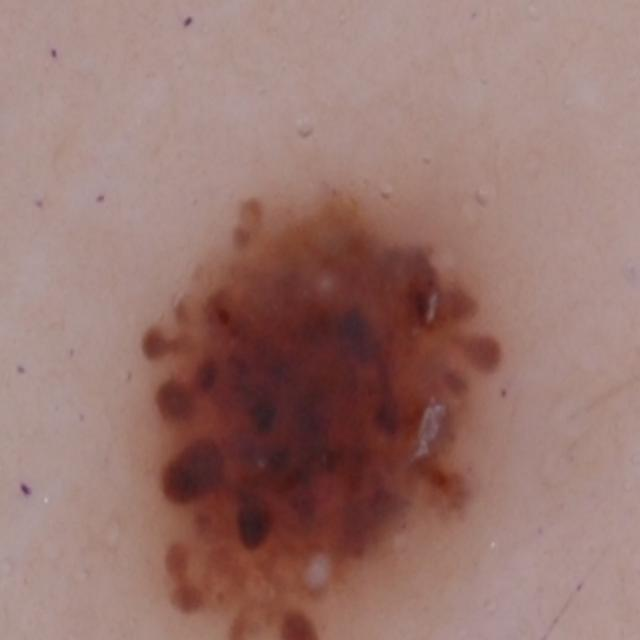Melanoma: (106, 161, 516, 640)
